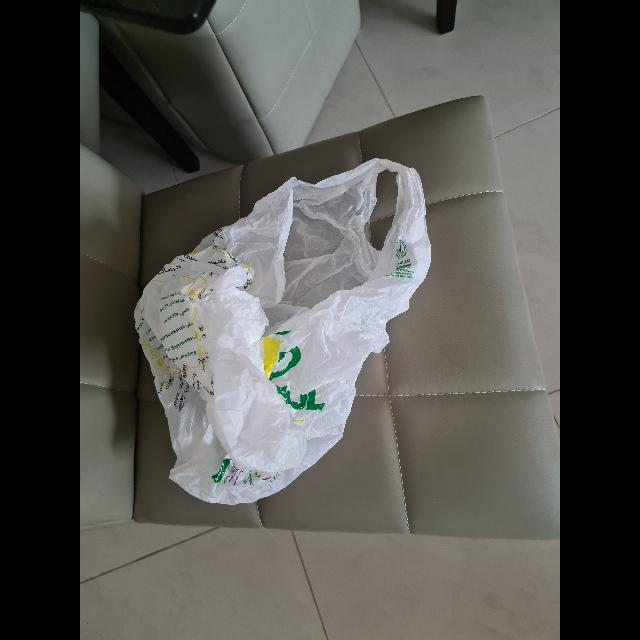plastic_bag: (110, 134, 450, 534)
